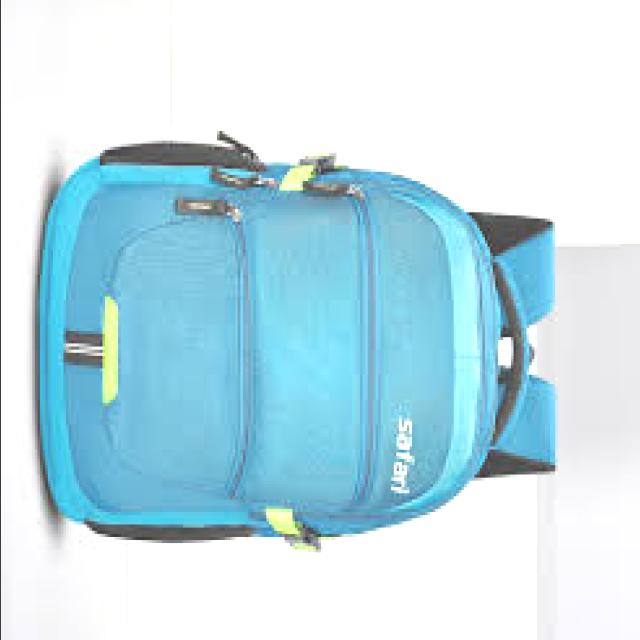backpack: (38, 133, 561, 551)
